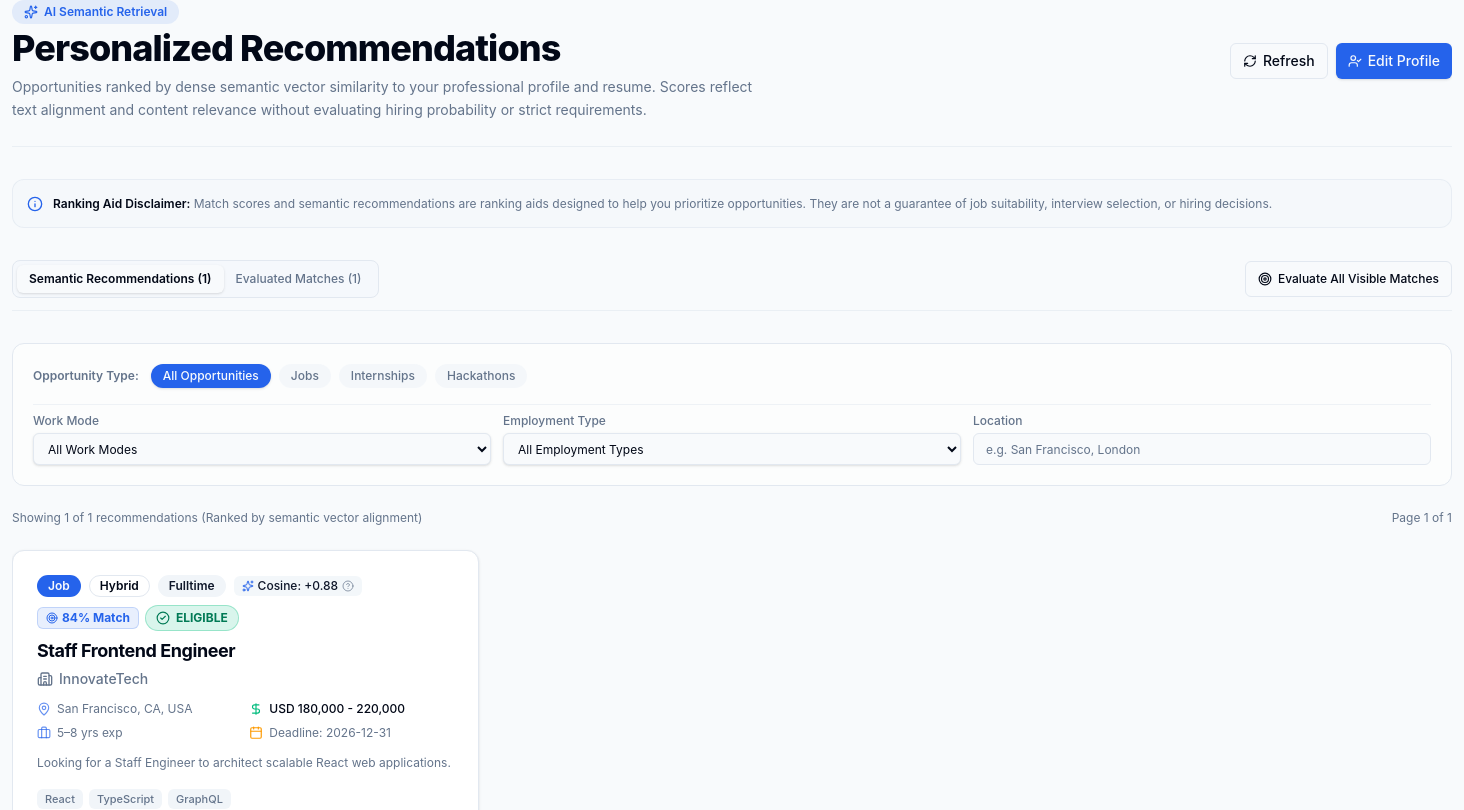
Test: Phase 20 — RecommendationsPage Evaluated Matches Integration › renders ranking aid disclaimer and allows switching to evaluated matches tab
The width and height of the screenshot is (1464, 810).
expect the link "Staff Frontend Engineer" is shown: met, box [37,640,235,661]
expect the text "Match scores and semantic recommendations are ranking aids" is shown: met, box [190,196,1272,210]
// Switch to Evaluated Matches tab
Click the button "Evaluated Matches (1)".
click(298, 279)  # box [224,265,374,293]
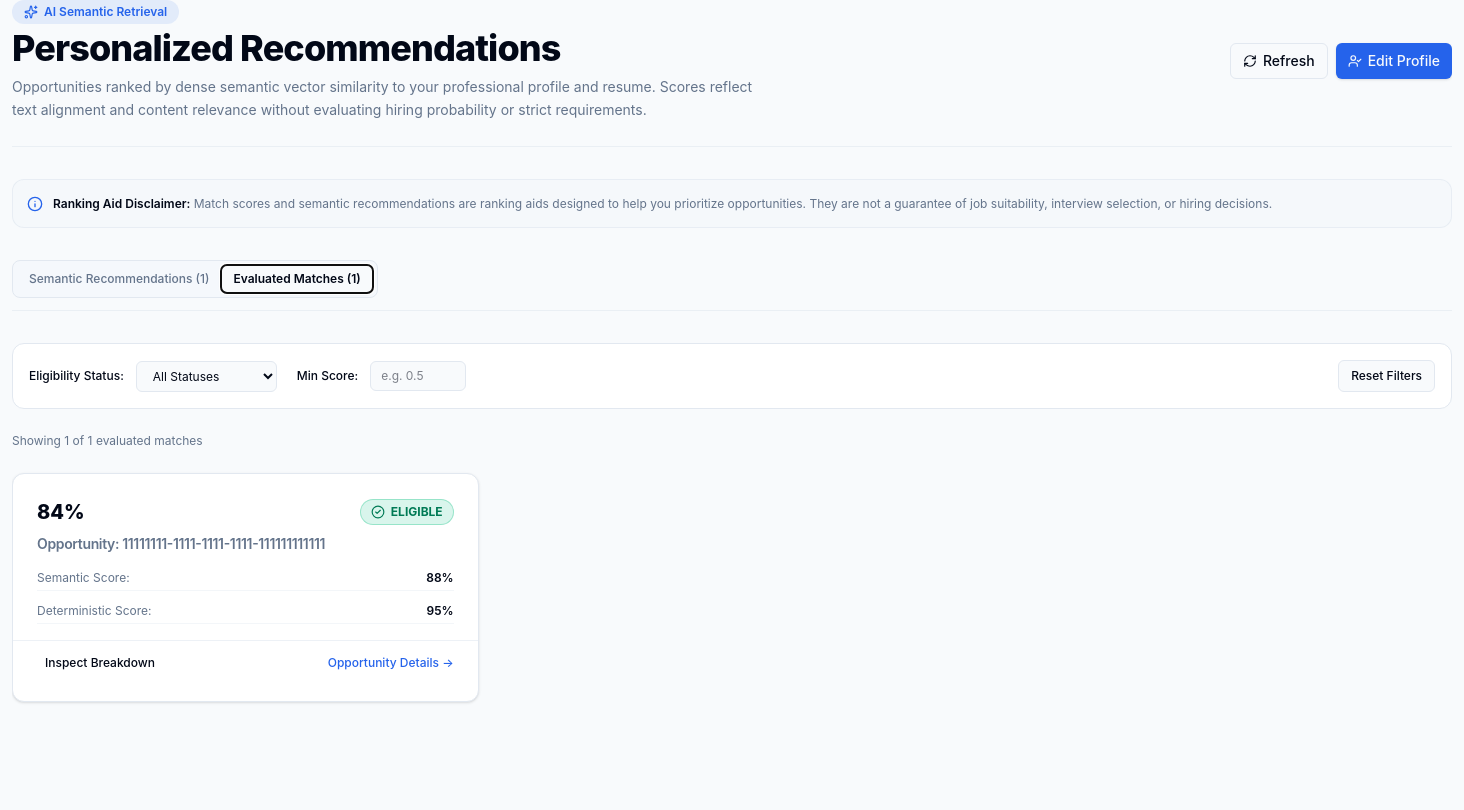
expect the text "Eligibility Status:" is shown: met, box [29,368,124,384]
expect the text "Min Score:" is shown: met, box [297,368,358,384]
